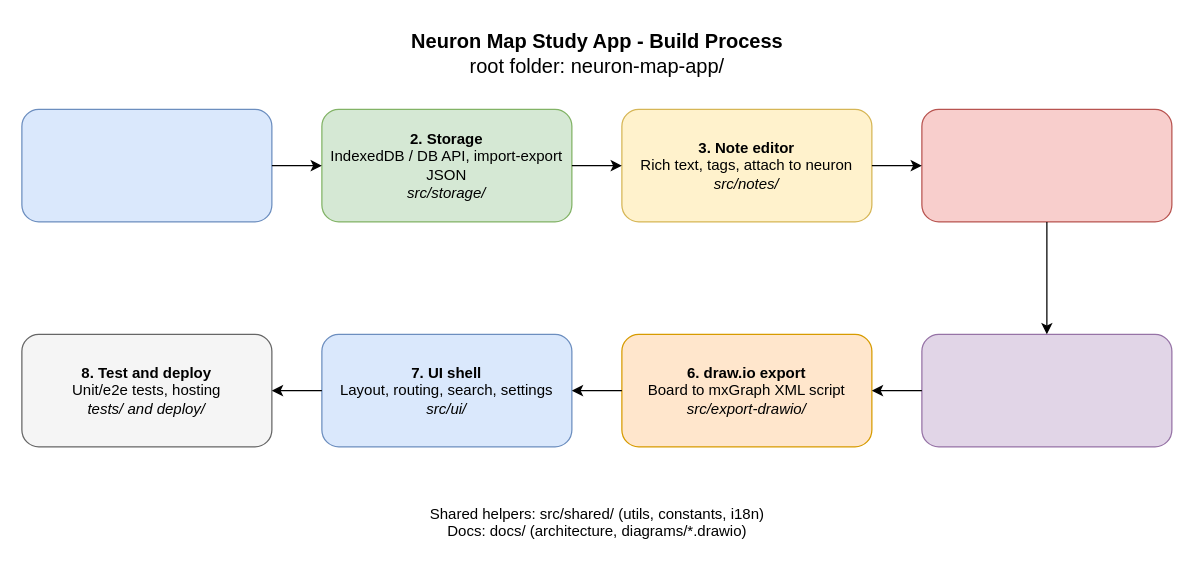
The diagram is 1194 pixels wide and 568 high, and some of its shapes have lost their labels. Here are the shapes that lost their labels. From the top down, the centre of each, then its label:
At pixel 146 165: "1. Core data model Neuron, Synapse, Board types src/core/".
At pixel 1046 165: "4. Neuron board Canvas: drag, zoom, link neurons src/board/".
At pixel 1046 390: "5. Study mode Review path, spaced repetition, quiz src/study/".
